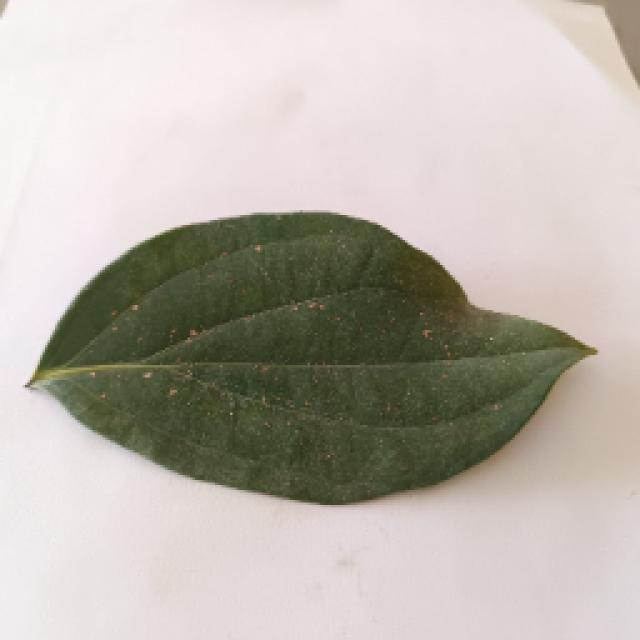pollu-disease: (25, 212, 600, 502)
